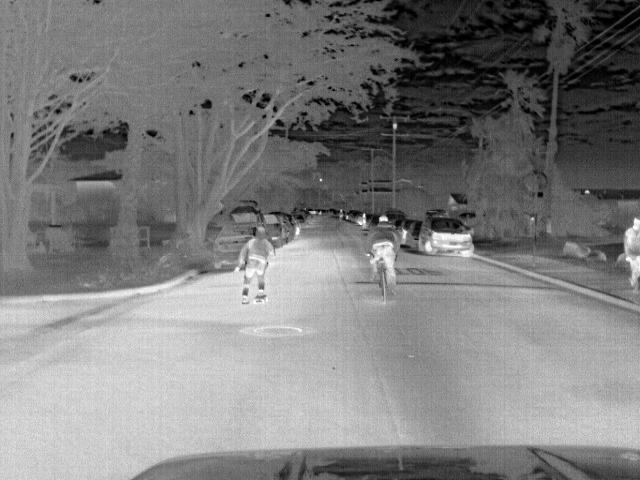car: (419, 213, 477, 257), (212, 230, 261, 272), (228, 206, 261, 232), (262, 213, 283, 244), (403, 220, 421, 252), (398, 220, 413, 248), (289, 213, 309, 228)
person: (234, 229, 272, 301), (369, 212, 397, 290), (623, 216, 640, 294)
